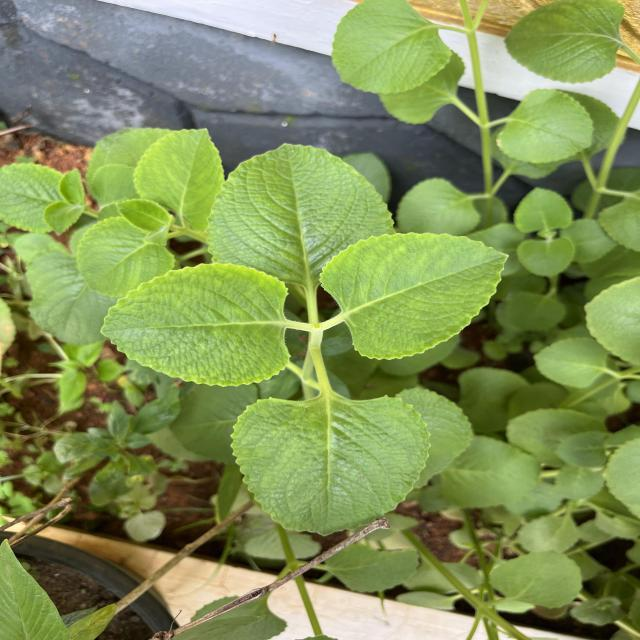Plectranthus barbatus: (230, 392, 433, 537), (318, 231, 512, 362), (99, 261, 293, 389), (205, 141, 398, 265), (329, 1, 454, 96), (502, 0, 626, 86), (133, 127, 226, 234), (75, 215, 176, 298), (496, 88, 594, 165), (396, 176, 481, 236), (0, 162, 65, 234), (513, 186, 573, 234), (516, 236, 576, 278)
